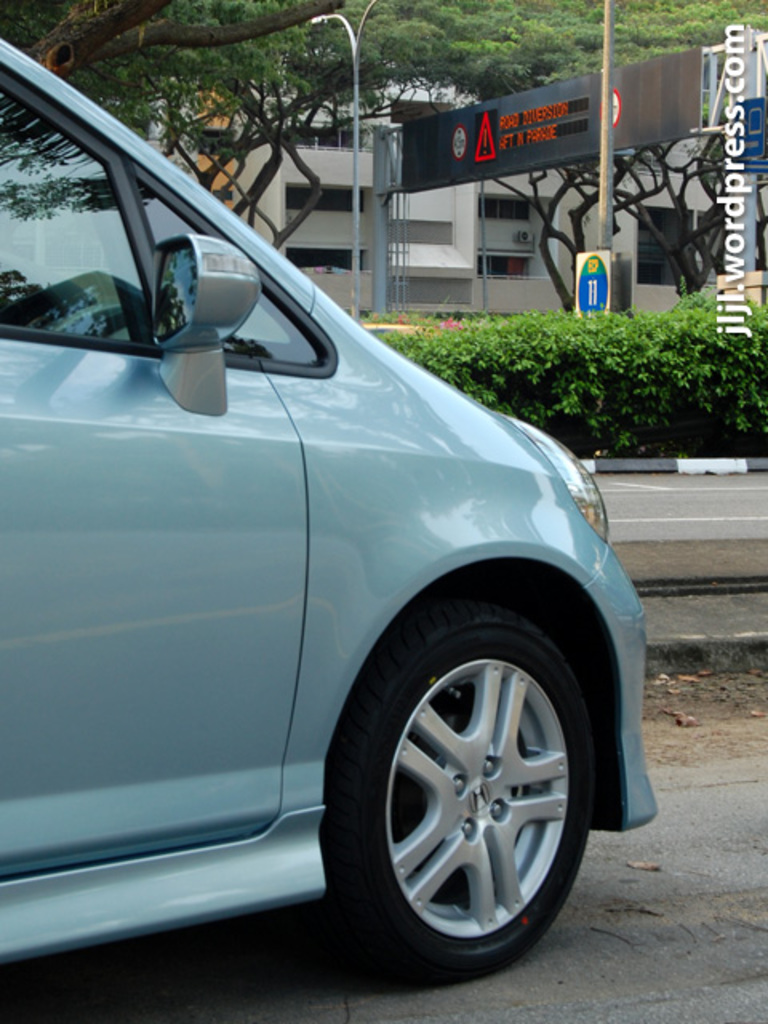Tree: (0, 0, 765, 248)
